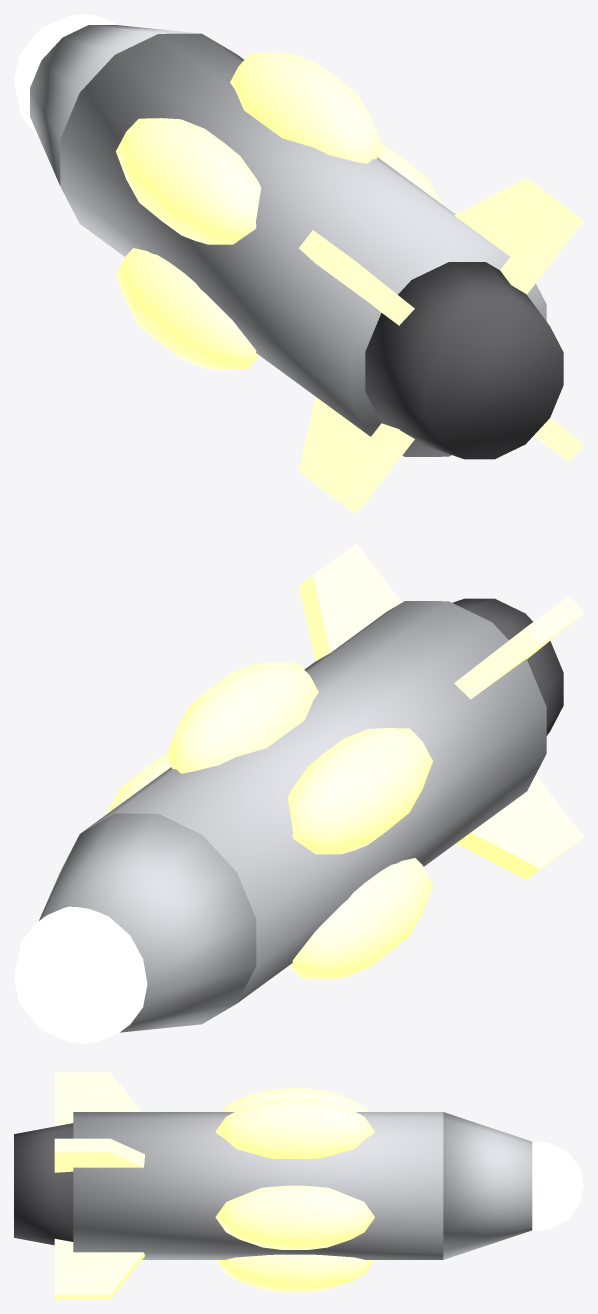
The model's file is rakete_smart.glb.
The picture shows the model from 3 angles, top to bottom: view 1: azimuth 30°, elevation 25°; view 2: azimuth 150°, elevation 25°; view 3: azimuth 270°, elevation 25°; orthographic projection. The views are drawn at different scales.
Parts seen in each view (by area): view 1: Rumpf.002, Duese.002, Kapsel2, Kapsel1, Kapsel3, Flosse0.003, Flosse2.003, Nase.002, Flosse1.003, Kopf, Flosse3.002, Kapsel0; view 2: Rumpf.002, Nase.002, Kopf, Kapsel2, Kapsel1, Kapsel3, Flosse0.003, Flosse2.003, Flosse1.003, Duese.002, Kapsel0; view 3: Rumpf.002, Nase.002, Kapsel0, Kapsel1, Duese.002, Kapsel4, Flosse3.002, Kopf, Flosse1.003, Flosse0.003, Kapsel2.
Part boxes in pixels (x1=…): Rumpf.002: x1=60, y1=33, x2=546, y2=456; Duese.002: x1=365, y1=262, x2=563, y2=459; Kapsel2: x1=116, y1=118, x2=260, y2=244; Kapsel1: x1=230, y1=52, x2=382, y2=163; Kapsel3: x1=116, y1=248, x2=259, y2=369; Flosse0.003: x1=454, y1=178, x2=583, y2=294; Flosse2.003: x1=298, y1=396, x2=414, y2=514; Nase.002: x1=30, y1=25, x2=200, y2=185; Flosse1.003: x1=299, y1=230, x2=414, y2=325; Kopf: x1=14, y1=14, x2=118, y2=136; Flosse3.002: x1=534, y1=417, x2=583, y2=462; Kapsel0: x1=378, y1=144, x2=442, y2=204; Rumpf.002: x1=81, y1=601, x2=546, y2=1003; Nase.002: x1=39, y1=813, x2=256, y2=1032; Kopf: x1=14, y1=906, x2=147, y2=1043; Kapsel2: x1=287, y1=728, x2=432, y2=854; Kapsel1: x1=166, y1=662, x2=318, y2=773; Kapsel3: x1=289, y1=858, x2=432, y2=979; Flosse0.003: x1=298, y1=543, x2=401, y2=661; Flosse2.003: x1=456, y1=775, x2=583, y2=879; Flosse1.003: x1=454, y1=595, x2=583, y2=699; Duese.002: x1=452, y1=598, x2=563, y2=735; Kapsel0: x1=106, y1=754, x2=170, y2=814; Rumpf.002: x1=73, y1=1112, x2=443, y2=1259; Nase.002: x1=443, y1=1112, x2=532, y2=1259; Kapsel0: x1=215, y1=1185, x2=374, y2=1249; Kapsel1: x1=215, y1=1099, x2=374, y2=1158; Duese.002: x1=14, y1=1123, x2=73, y2=1245; Kapsel4: x1=216, y1=1254, x2=374, y2=1292; Flosse3.002: x1=54, y1=1239, x2=144, y2=1299; Kopf: x1=532, y1=1141, x2=583, y2=1230; Flosse1.003: x1=54, y1=1072, x2=141, y2=1126; Flosse0.003: x1=54, y1=1138, x2=145, y2=1172; Kapsel2: x1=222, y1=1088, x2=368, y2=1111.
Bounding box in the file's own units: 0.2665 × 0.2802 × 0.77.
